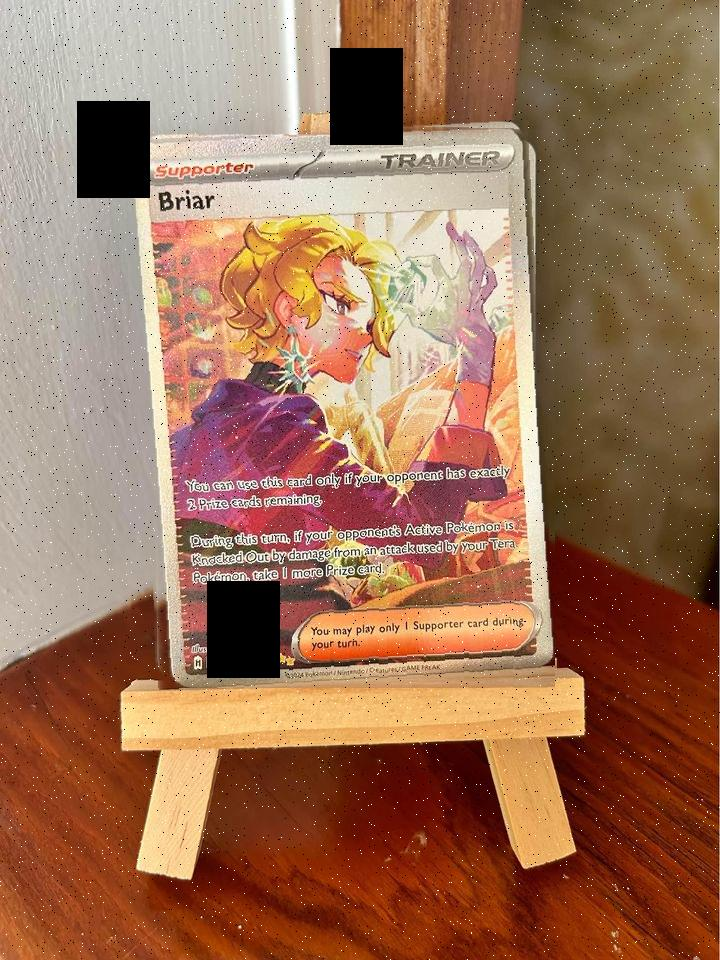card: (131, 129, 555, 688)
